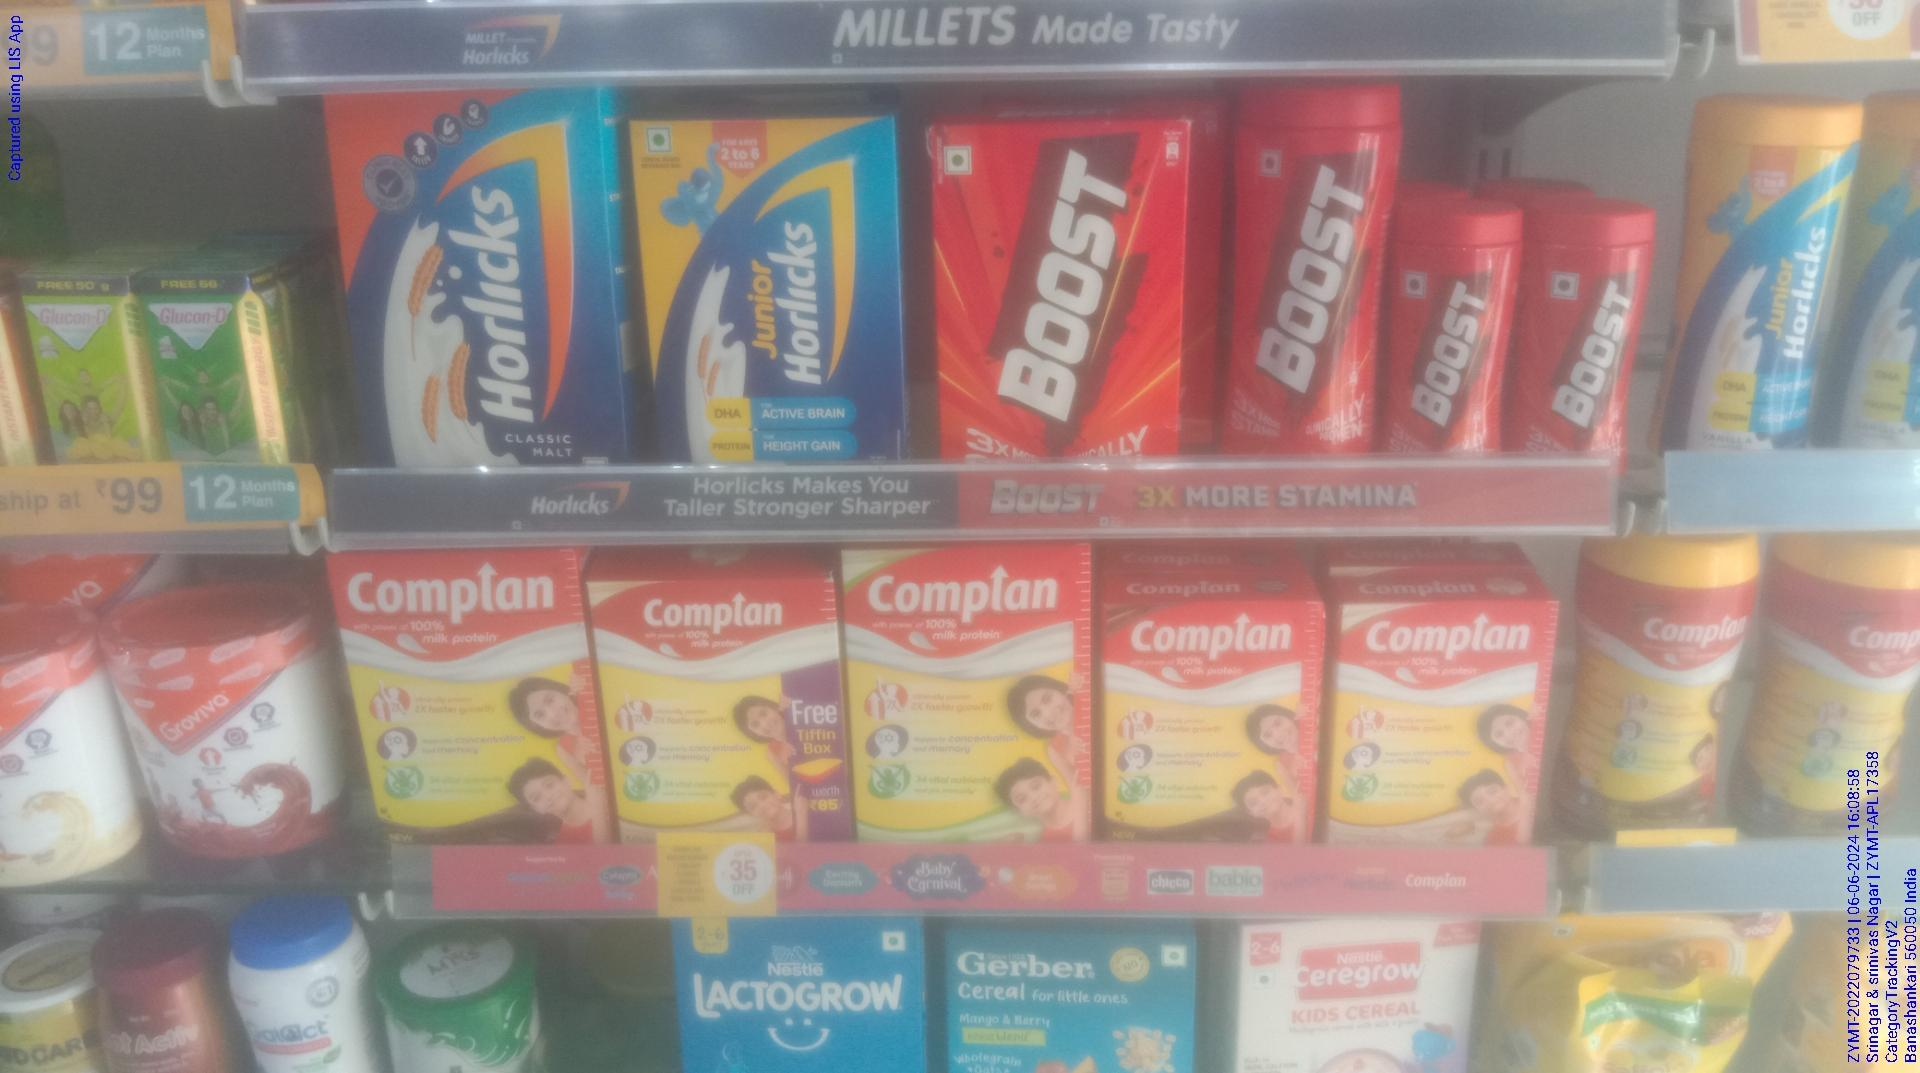COMPLAN_CHOCOLATE_1_KG_PACK: (339, 551, 591, 852)
COMPLAN_CHOCOLATE_200_GMS_JAR: (1575, 536, 1745, 837), (1762, 540, 1920, 845)
COMPLAN_CHOCOLATE_200_GMS_PACK: (1102, 600, 1317, 858)
COMPLAN_KESAR_BADAM_200_GMS_PACK: (1346, 602, 1545, 869)
COMPLAN_KESAR_BADAM_500_GMS_PACK: (601, 580, 841, 861)
COMPLAN_PISTA_BADAM_500_GMS_PACK: (845, 544, 1079, 841)
HORLICKS_JUNIOR_VANILLA_500_GM_JAR: (1685, 99, 1847, 452)
